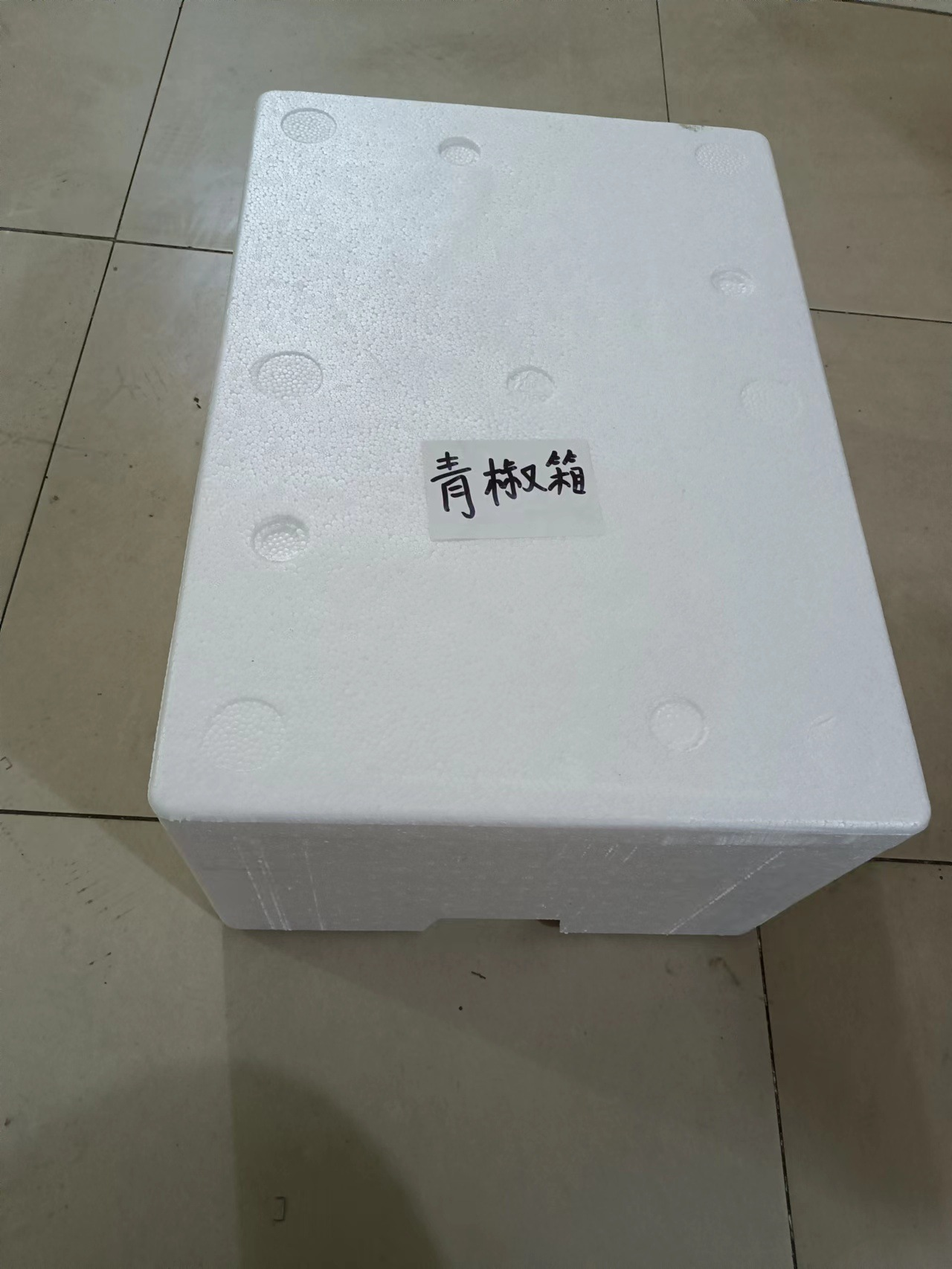泡沫箱: (149, 93, 929, 934)
